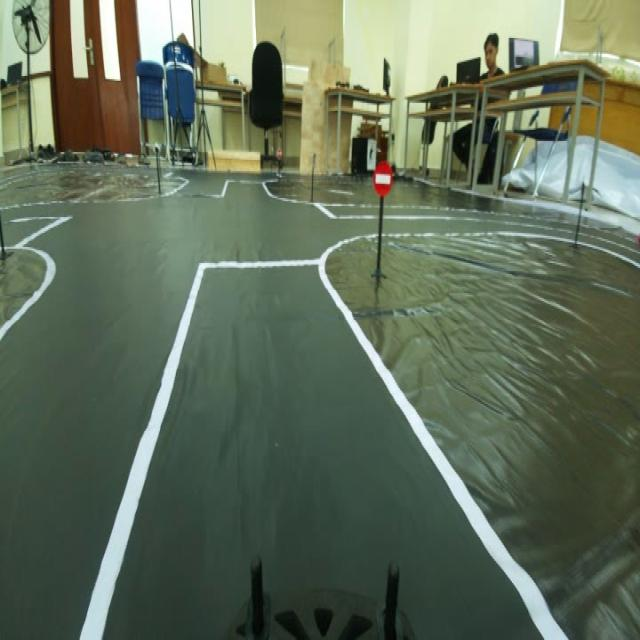no_entry: (371, 151, 397, 207)
